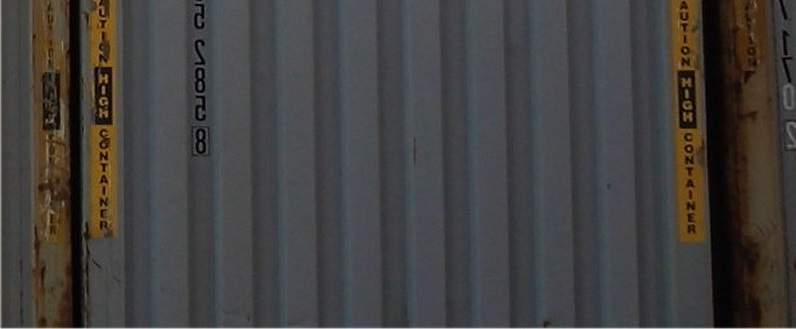container_no_door: (75, 2, 713, 329)
